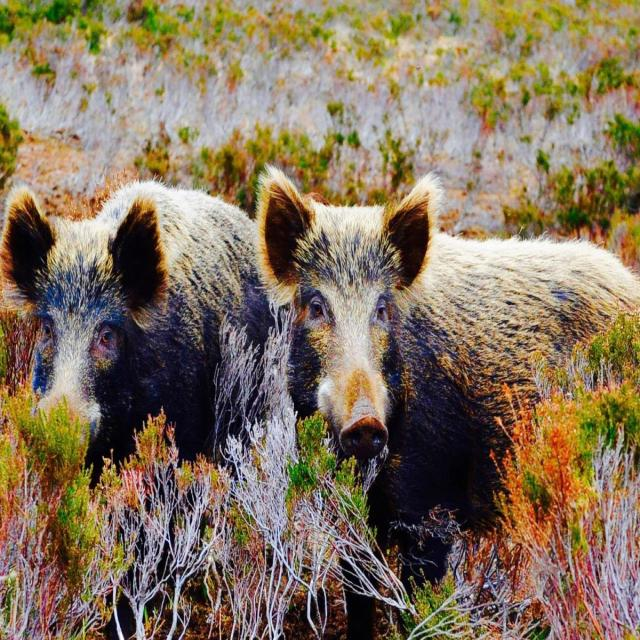Boar: (262, 169, 640, 573), (16, 179, 271, 489)
